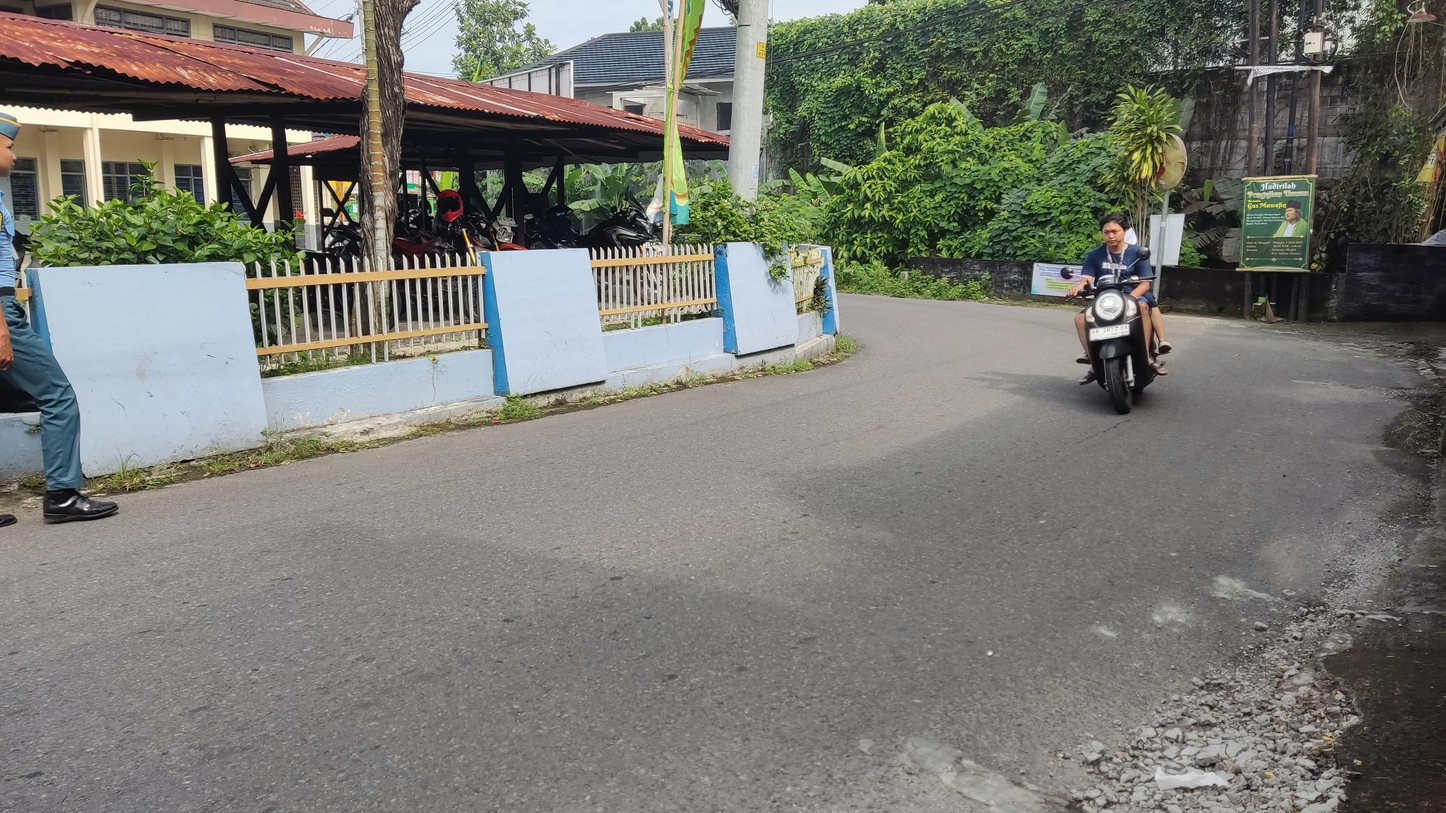nohelm: (1099, 212, 1129, 250)
riding: (1058, 210, 1173, 416)
